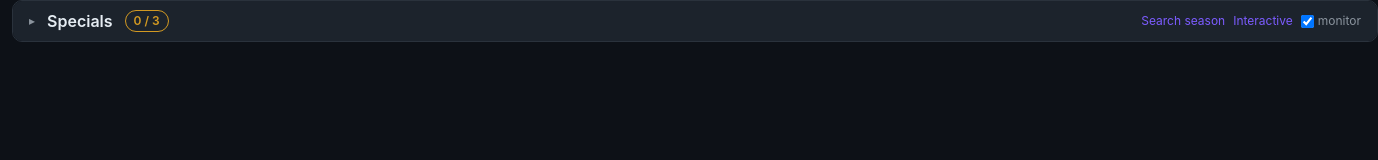
Scenario: SeasonSection › hides the body when defaultOpen is false and shows it after clicking the header
Expected: the text "episode-body" is not shown
Click the text "Specials": (80, 21) [47, 9, 112, 33]
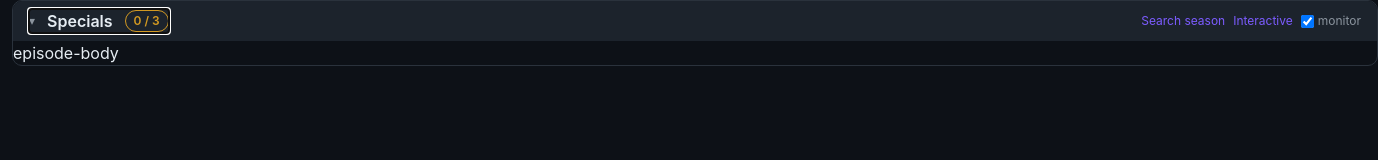
Expected: the list item "episode-body" is shown, [13, 43, 119, 63]
